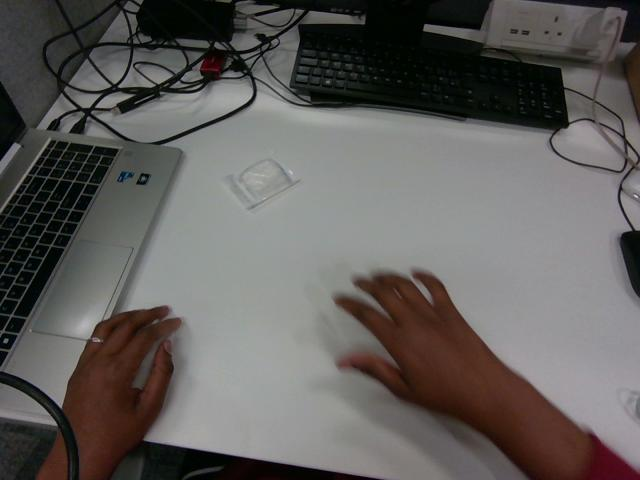gauze: (225, 158, 298, 209)
